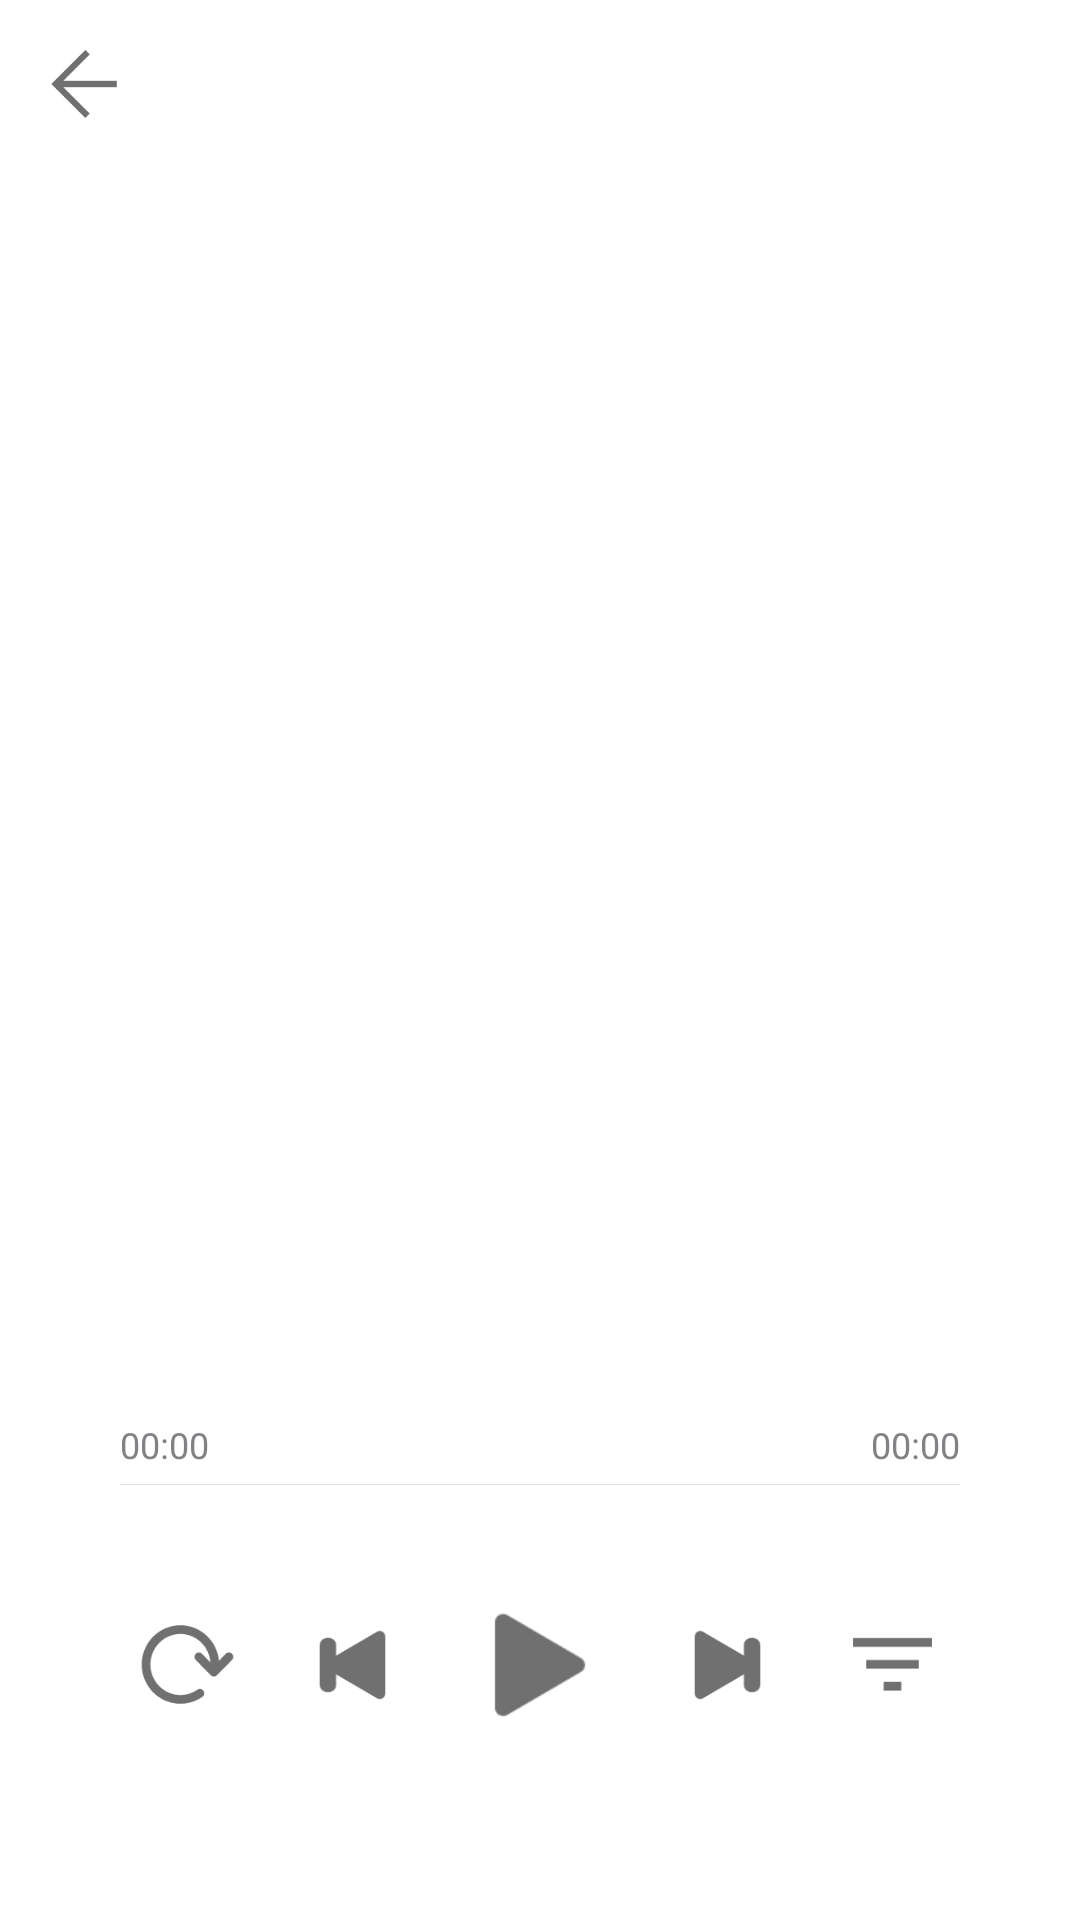

Where to tap for icons on this 1080x1920 app screen, as (x=x, y=y):
back: (x=84, y=84)
player home last: (x=352, y=1665)
player home next: (x=727, y=1665)
player home play: (x=540, y=1665)
player mode list: (x=187, y=1664)
